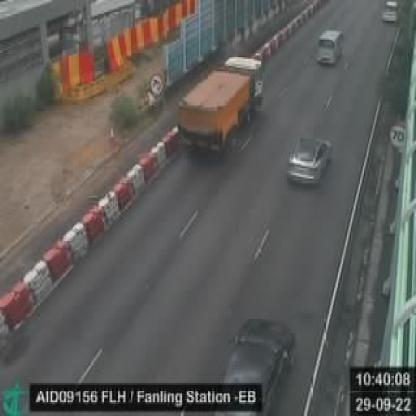Car: (212, 321, 298, 414), (282, 132, 336, 187), (310, 24, 346, 66), (379, 0, 396, 24)
Truck: (177, 46, 265, 164)
